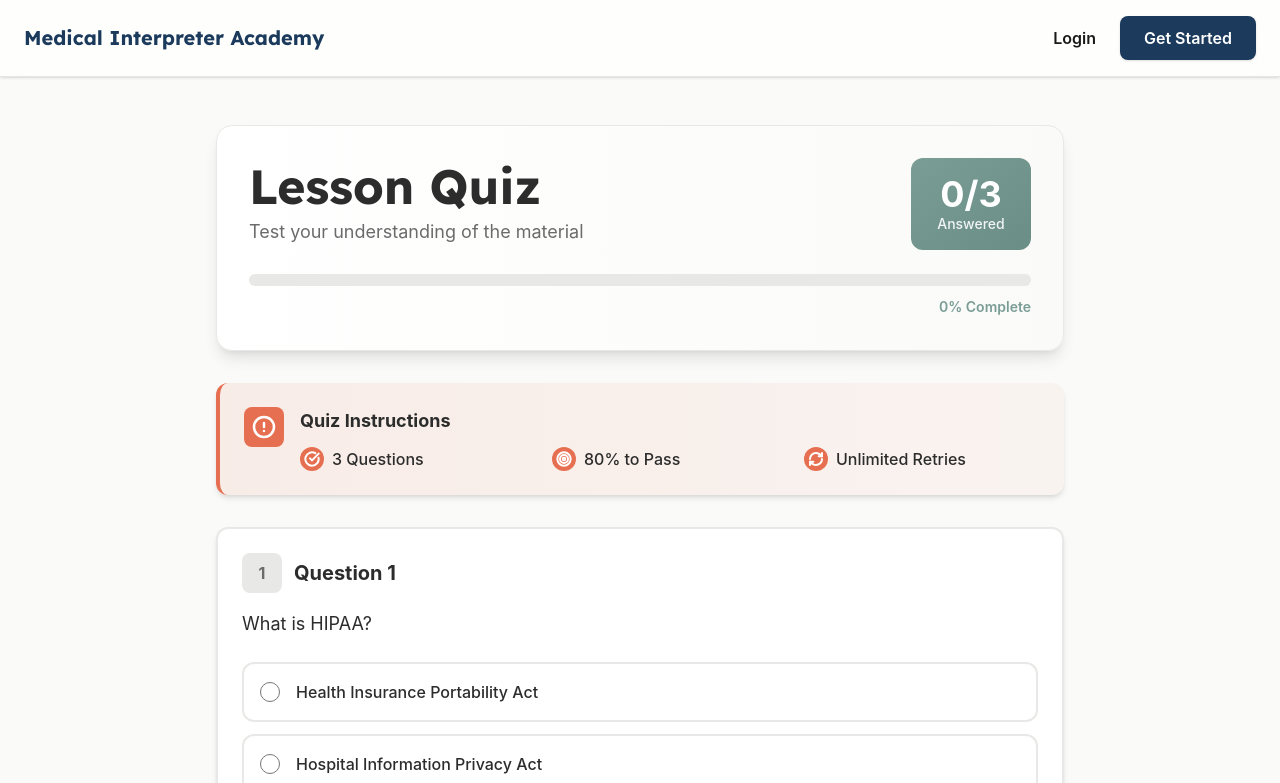
Scenario: QuizView Page › Incomplete Submission › should show incomplete modal when submitting with unanswered questions
Expected: the text "What is HIPAA?" is shown, [242,613,372,634]
Note: Answer only 2 out of 3 questions
Click the radio button labelled "Health Insurance Portability Act" at [270, 692], box [260,682,280,702]
(page scrolled)
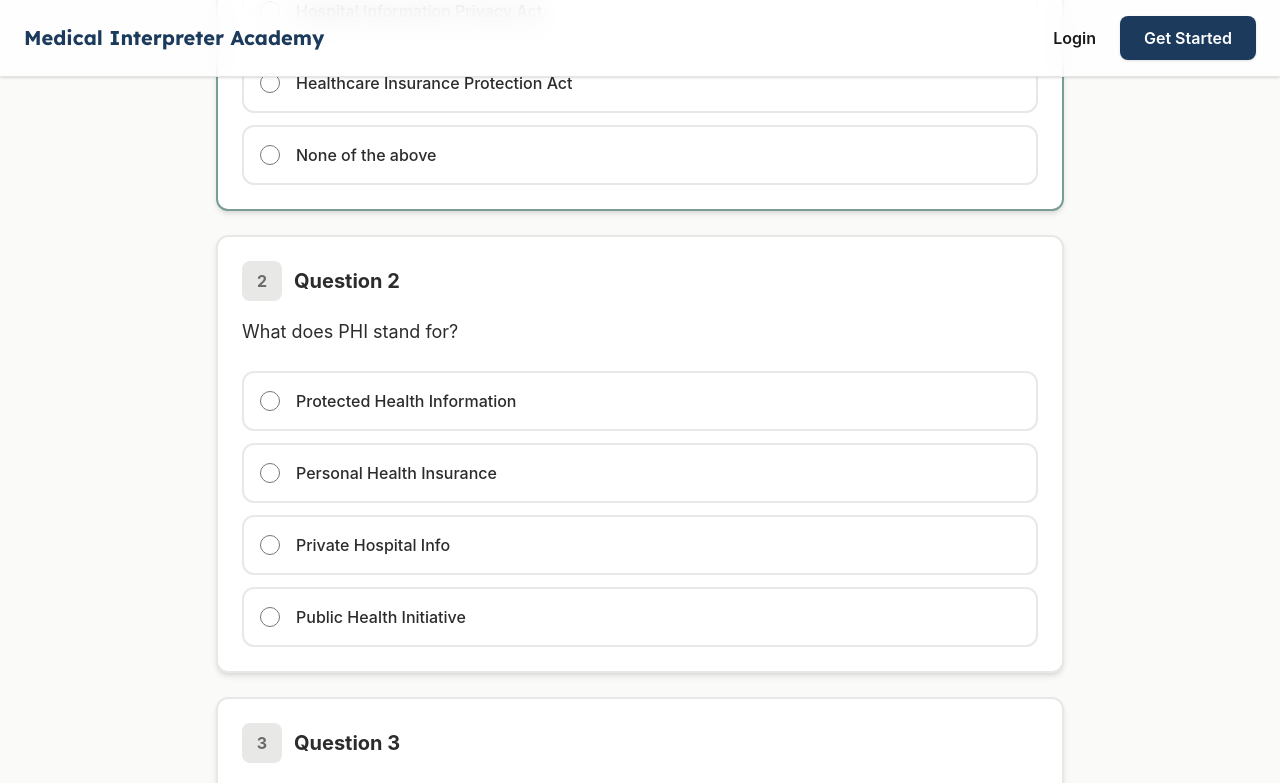
Click the radio button labelled "Protected Health Information" at [270, 400], box [260,390,280,410]
(page scrolled)
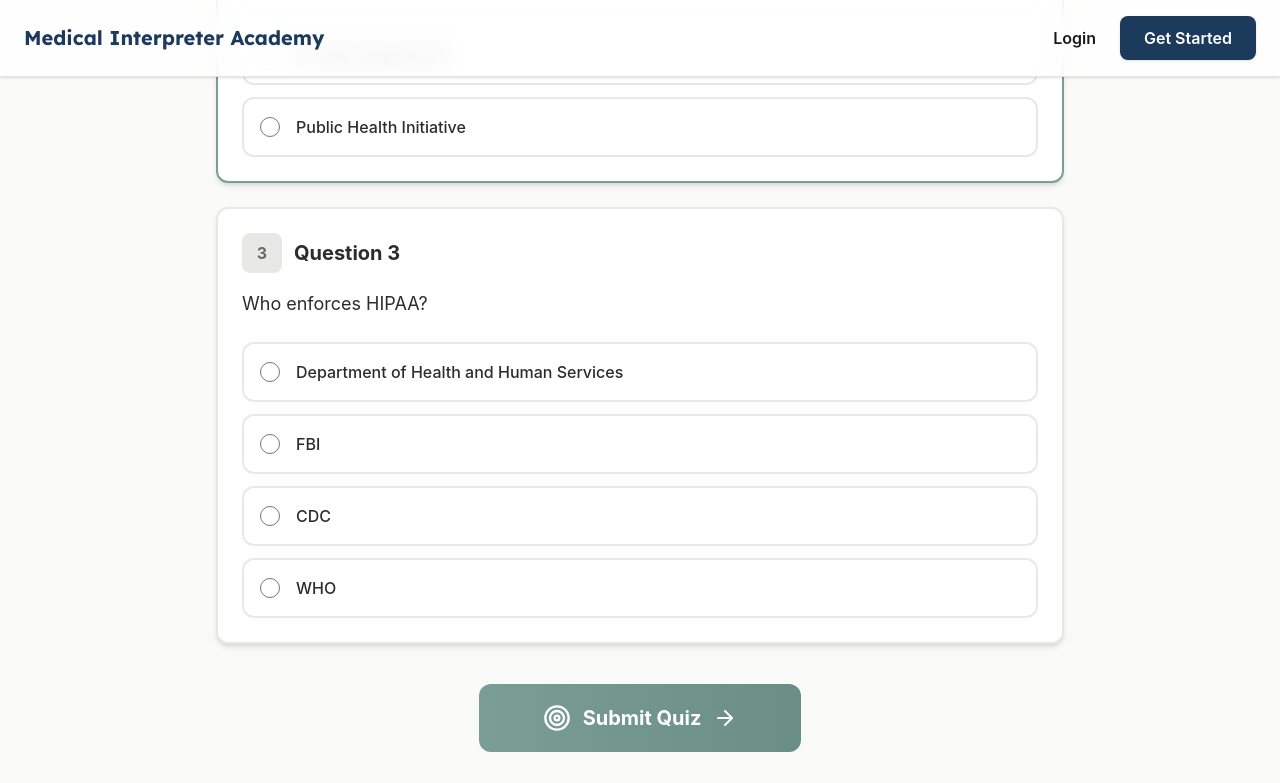
Click the button "Submit Quiz" at [640, 718], box [479,684,801,752]
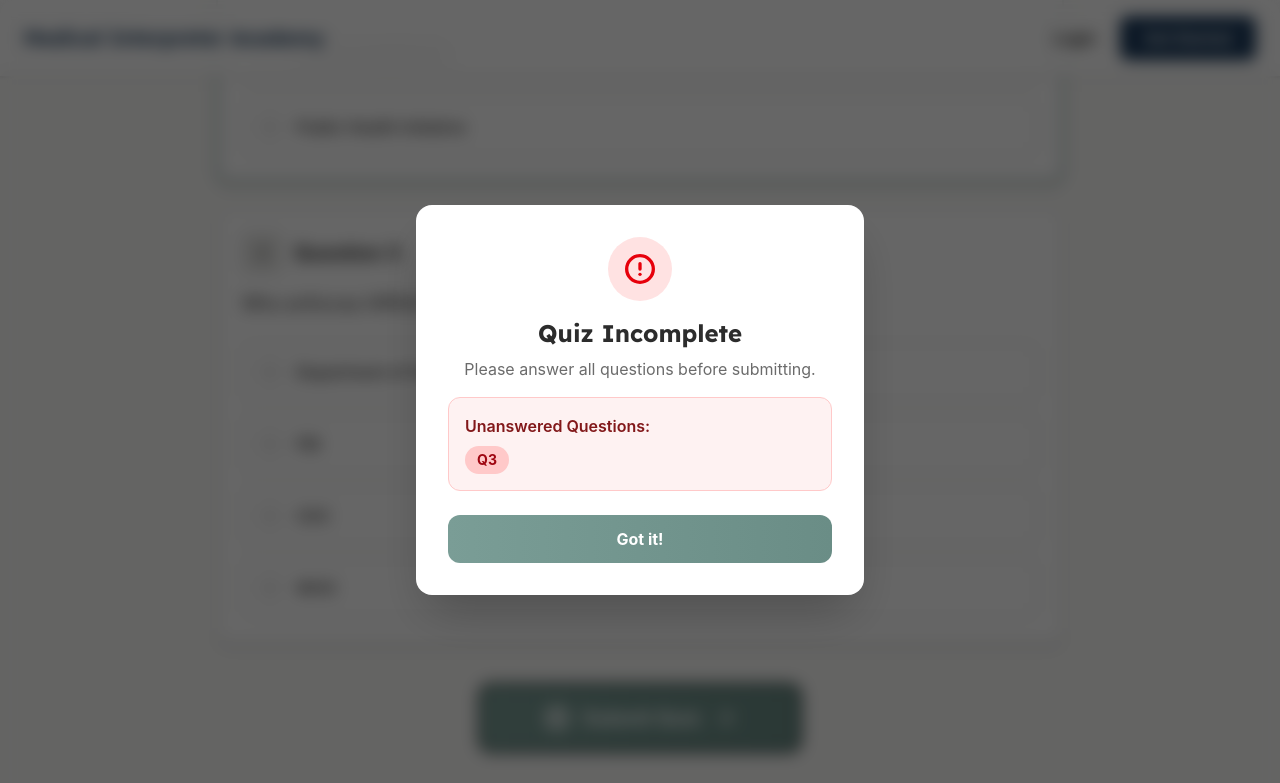
Expected: the heading "Quiz Incomplete" is shown, [538,318,742,348]
Expected: the text "Please answer all questions before submitting." is shown, [448,357,832,381]
